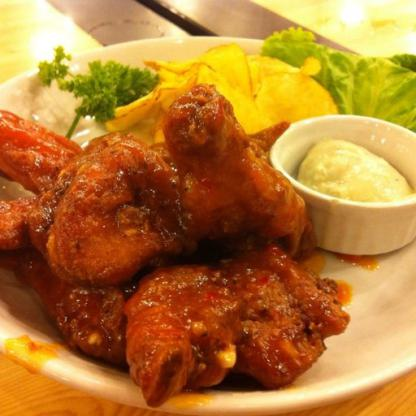yogurt: (293, 134, 413, 215)
